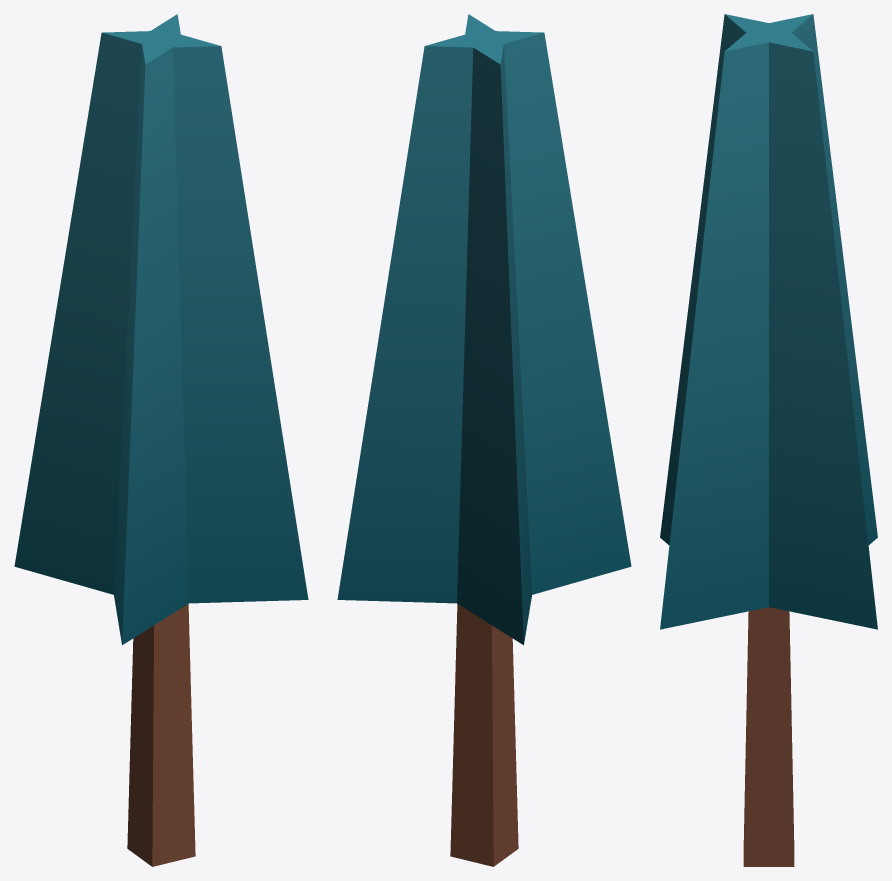
File: Tree_27_gradient_blue_vc.fbx
The picture shows the model from 3 angles, left to right: view 1: azimuth 30°, elevation 25°; view 2: azimuth 150°, elevation 25°; view 3: azimuth 270°, elevation 25°; orthographic projection.
Parts seen in each view (by area): view 1: Tree_27_gradient_blue_vc; view 2: Tree_27_gradient_blue_vc; view 3: Tree_27_gradient_blue_vc.
Part boxes in pixels (left/top/right/bottom): Tree_27_gradient_blue_vc: left=14, top=14, right=308, bottom=866; Tree_27_gradient_blue_vc: left=337, top=14, right=631, bottom=866; Tree_27_gradient_blue_vc: left=660, top=14, right=877, bottom=866.
Bounding box in the file's own units: 63.19 × 263 × 63.19.
